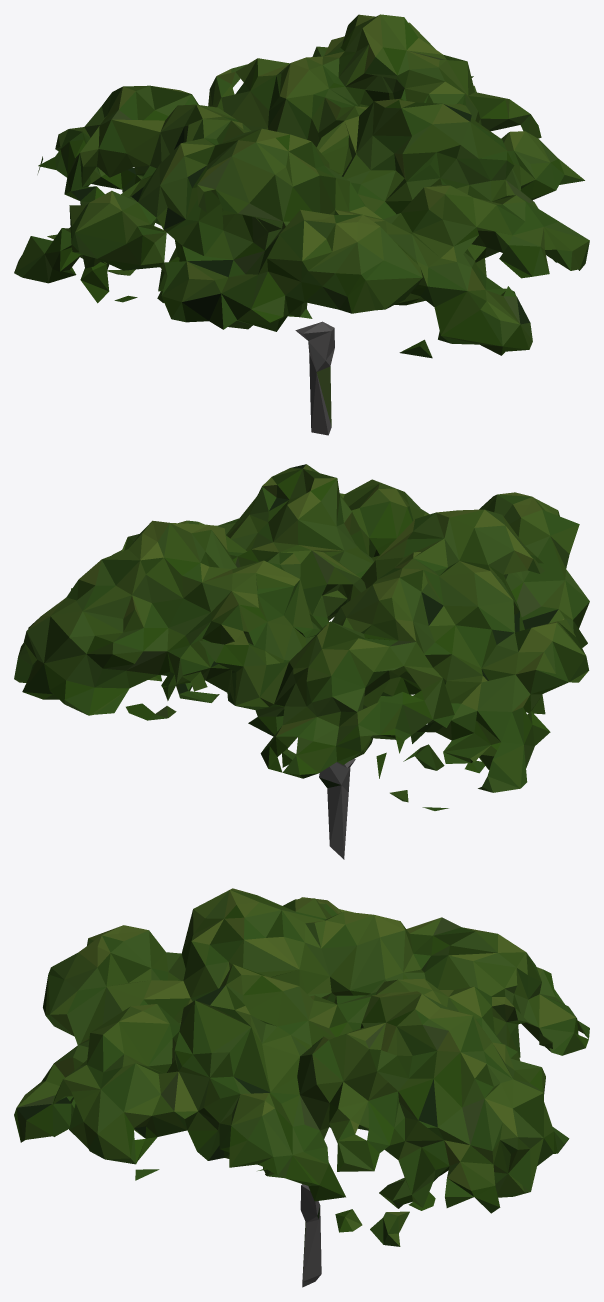
Rendered from canopy.glb.
The picture shows the model from 3 angles, top to bottom: view 1: azimuth 30°, elevation 25°; view 2: azimuth 150°, elevation 25°; view 3: azimuth 270°, elevation 25°; orthographic projection.
Parts seen in each view (by area): view 1: canopy; view 2: canopy; view 3: canopy.
Boxes of the visible parts, box(x1,y1,x2,y2) form: canopy: box(14, 14, 589, 435); canopy: box(14, 464, 589, 859); canopy: box(14, 888, 589, 1287).
Size of the model in its own units: 1.94 by 1.29 by 1.94.
